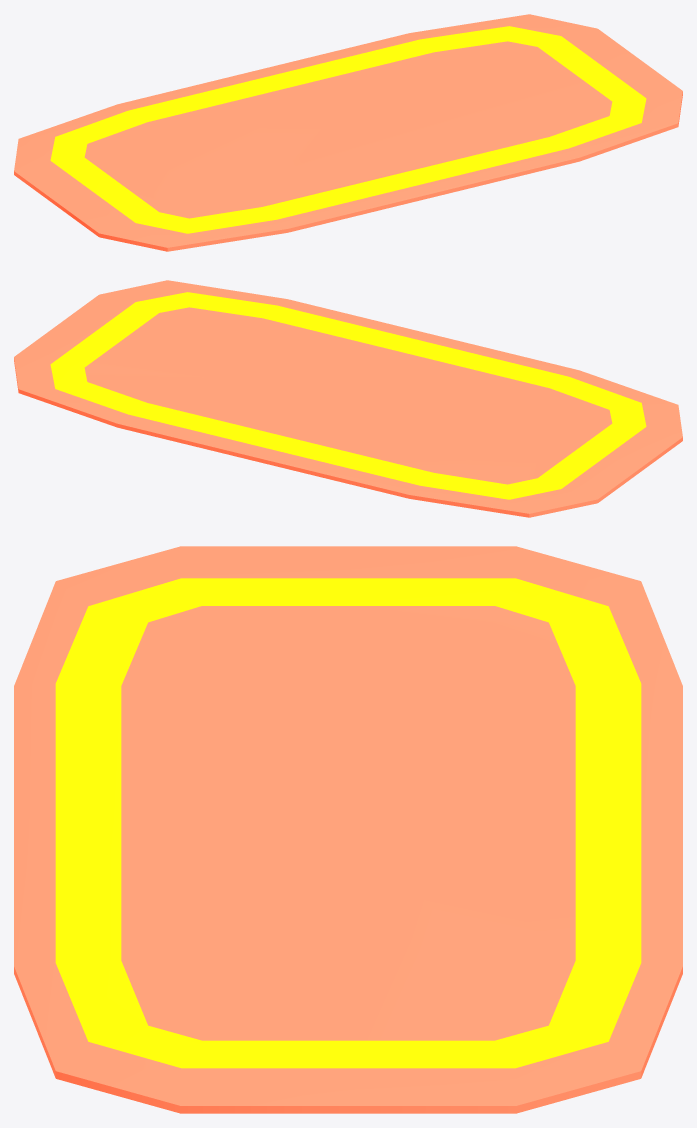
Rendered from Carpet.fbx.
The picture shows the model from 3 angles, top to bottom: view 1: azimuth 30°, elevation 25°; view 2: azimuth 150°, elevation 25°; view 3: azimuth 270°, elevation 25°; orthographic projection. The views are drawn at different scales.
Parts seen in each view (by area): view 1: Carpet; view 2: Carpet; view 3: Carpet.
Boxes of the visible parts, x1=… form: Carpet: x1=14, y1=14, x2=682, y2=251; Carpet: x1=14, y1=280, x2=682, y2=517; Carpet: x1=14, y1=546, x2=682, y2=1113.
Size of the model in its own units: 506 by 5.66 by 256.
